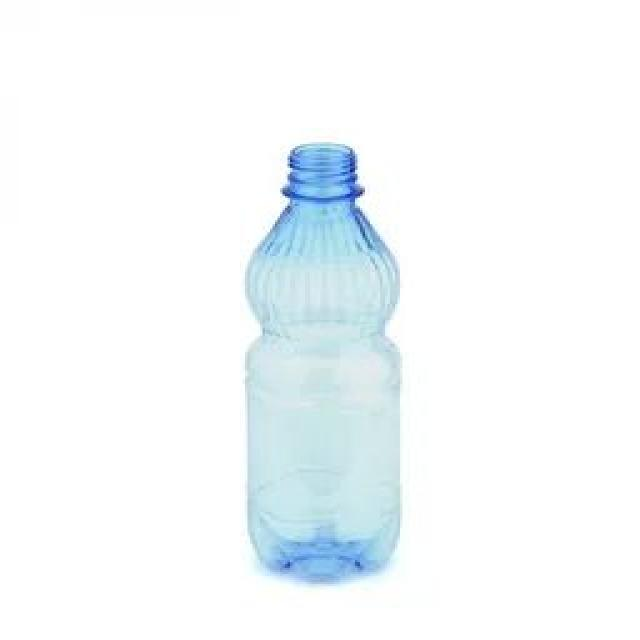blue: (244, 142, 402, 582)
